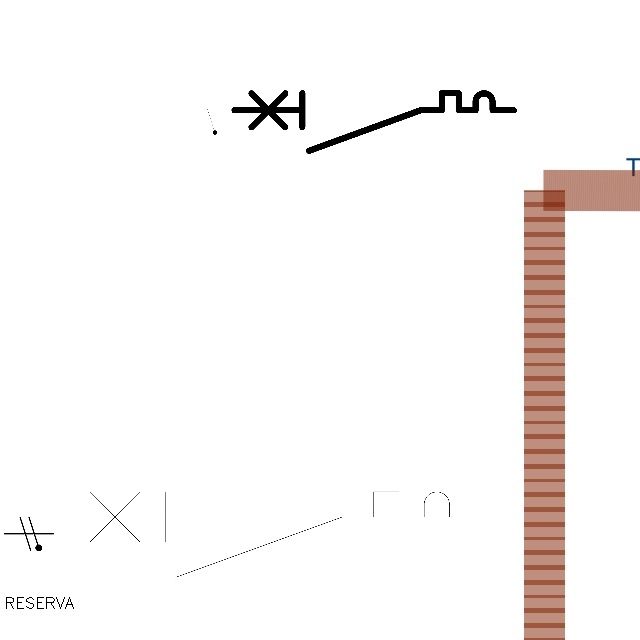interruptor_termomagnetico: (53, 481, 492, 588), (227, 86, 521, 158)
